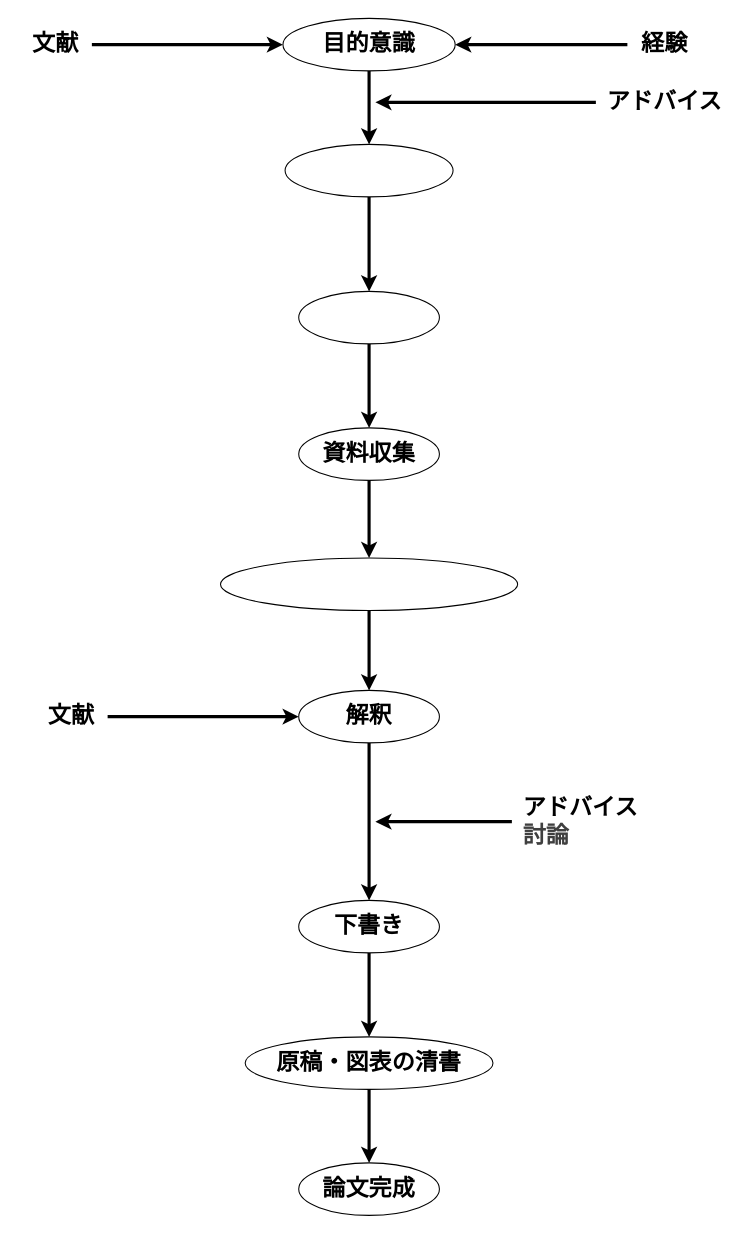
Image size: 750x1234. Some labels were removed from this diagram. The box of each missing label's shape, as (x1, y1, x2, y2) in pixels:
方法決定: (298, 290, 439, 344)
課題設定: (284, 143, 453, 197)
資料の図表化・分析: (219, 557, 518, 611)
